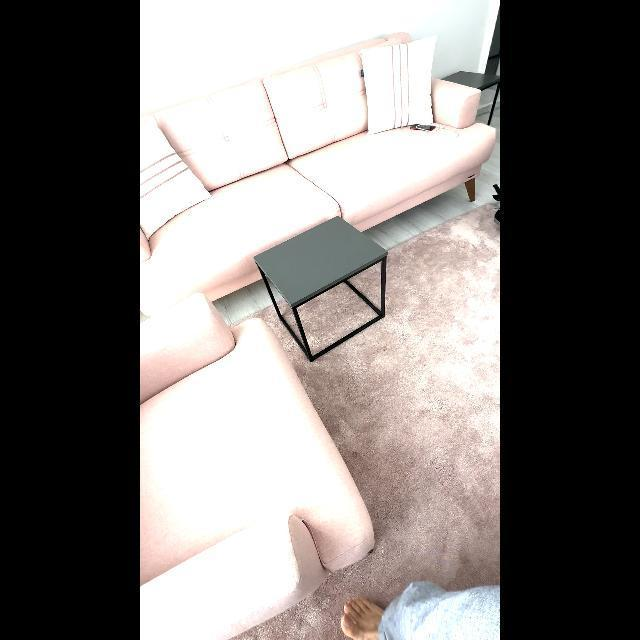coffee table: (252, 210, 392, 368)
